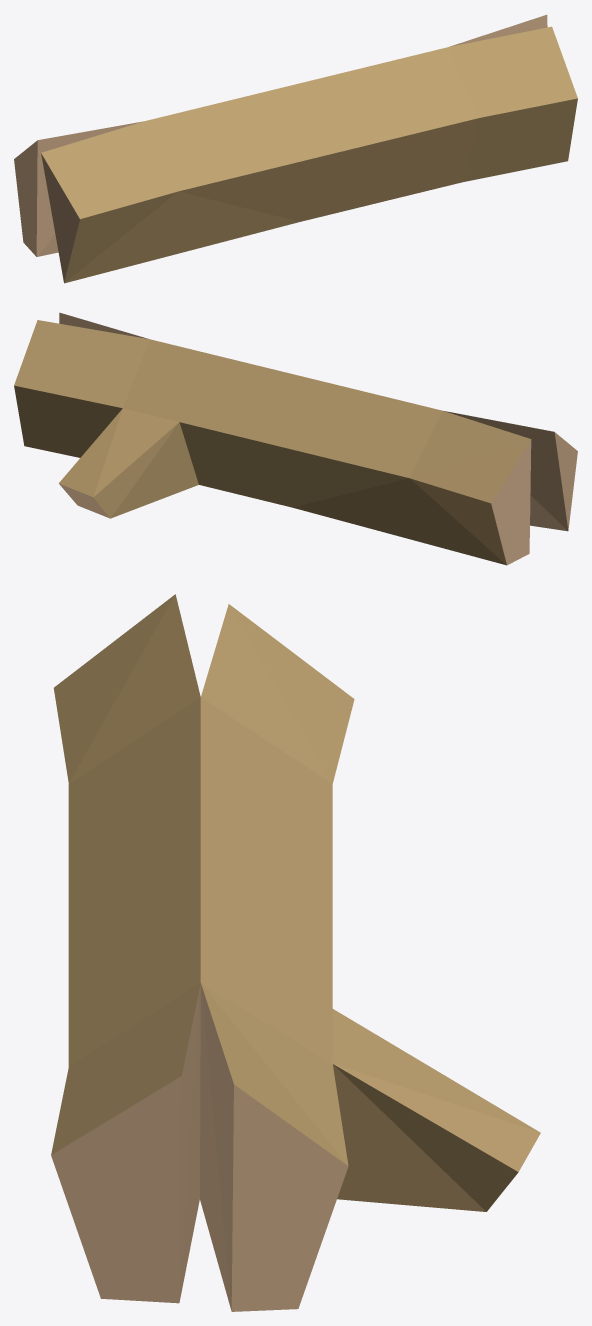
File: Acacia_Firewood_04.fbx
3 renders of one model, top to bottom at view 1: azimuth 30°, elevation 25°; view 2: azimuth 150°, elevation 25°; view 3: azimuth 270°, elevation 25°, orthographic. The views are drawn at different scales.
Parts seen in each view (by area): view 1: Acacia_Firewood_04; view 2: Acacia_Firewood_04; view 3: Acacia_Firewood_04.
Boxes of the visible parts, bbox=[...] form: Acacia_Firewood_04: bbox=[14, 14, 577, 283]; Acacia_Firewood_04: bbox=[14, 312, 577, 565]; Acacia_Firewood_04: bbox=[51, 594, 540, 1311].
Bounding box in the file's own units: 58.06 × 12.61 × 24.52.
